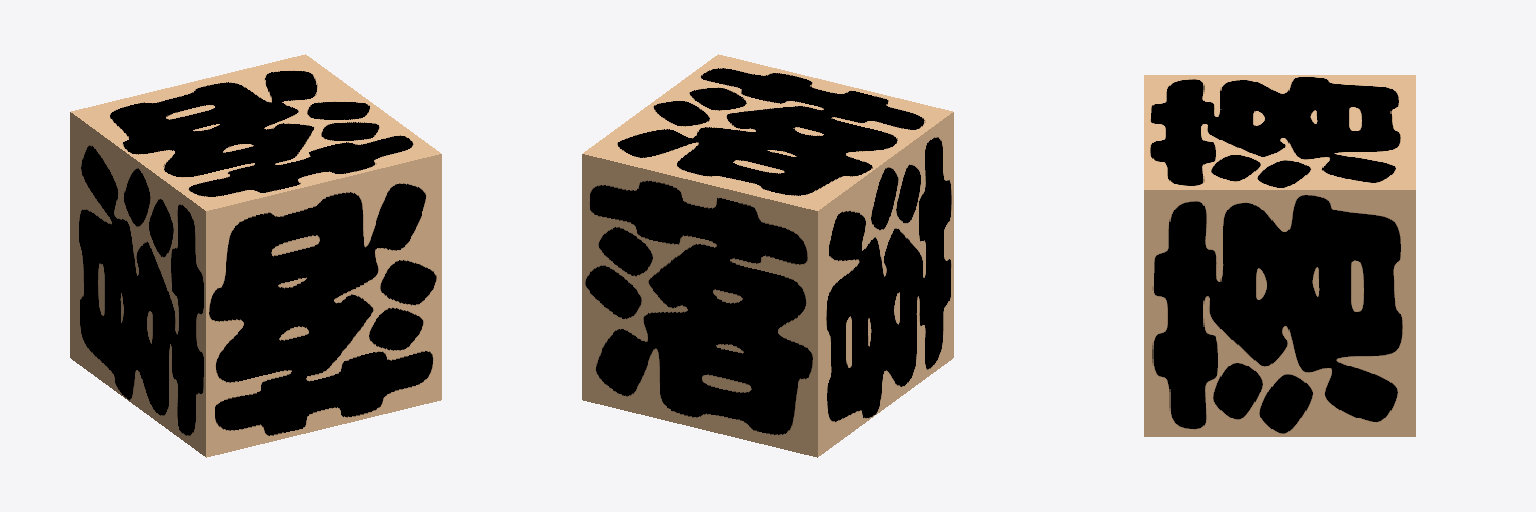
3 renders of one model, left to right at view 1: azimuth 30°, elevation 25°; view 2: azimuth 150°, elevation 25°; view 3: azimuth 270°, elevation 25°, orthographic.
Visible parts, largest first — view 1: Cube; view 2: Cube; view 3: Cube.
Boxes of the visible parts, x1,y1,x2,y2 form: Cube: [70, 54, 441, 457]; Cube: [582, 54, 953, 457]; Cube: [1144, 75, 1415, 436].
Size of the model in its own units: 1 by 1 by 1.
1 materials, 1 textured.